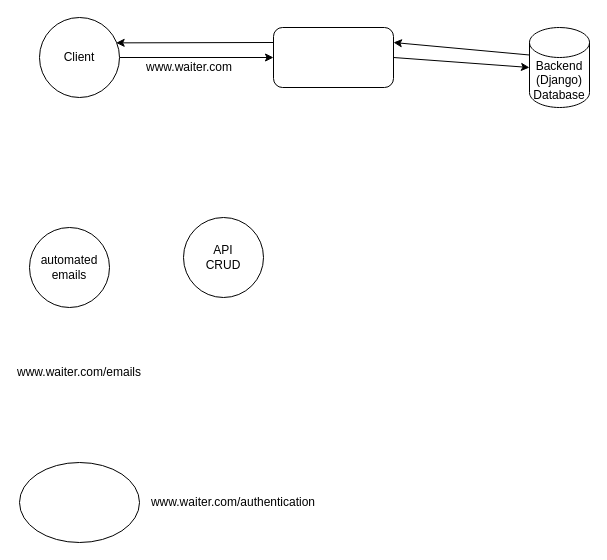
Image size: 607x560. Some labels were removed from this diagram. The shapes that lost their labels are listed below. From the top down, each one's box as (x1, y1, x2, y2) in pixels, then its label:
(272, 26, 394, 88): API
(18, 462, 140, 542): authentication OAUTH1,OAUTH2
